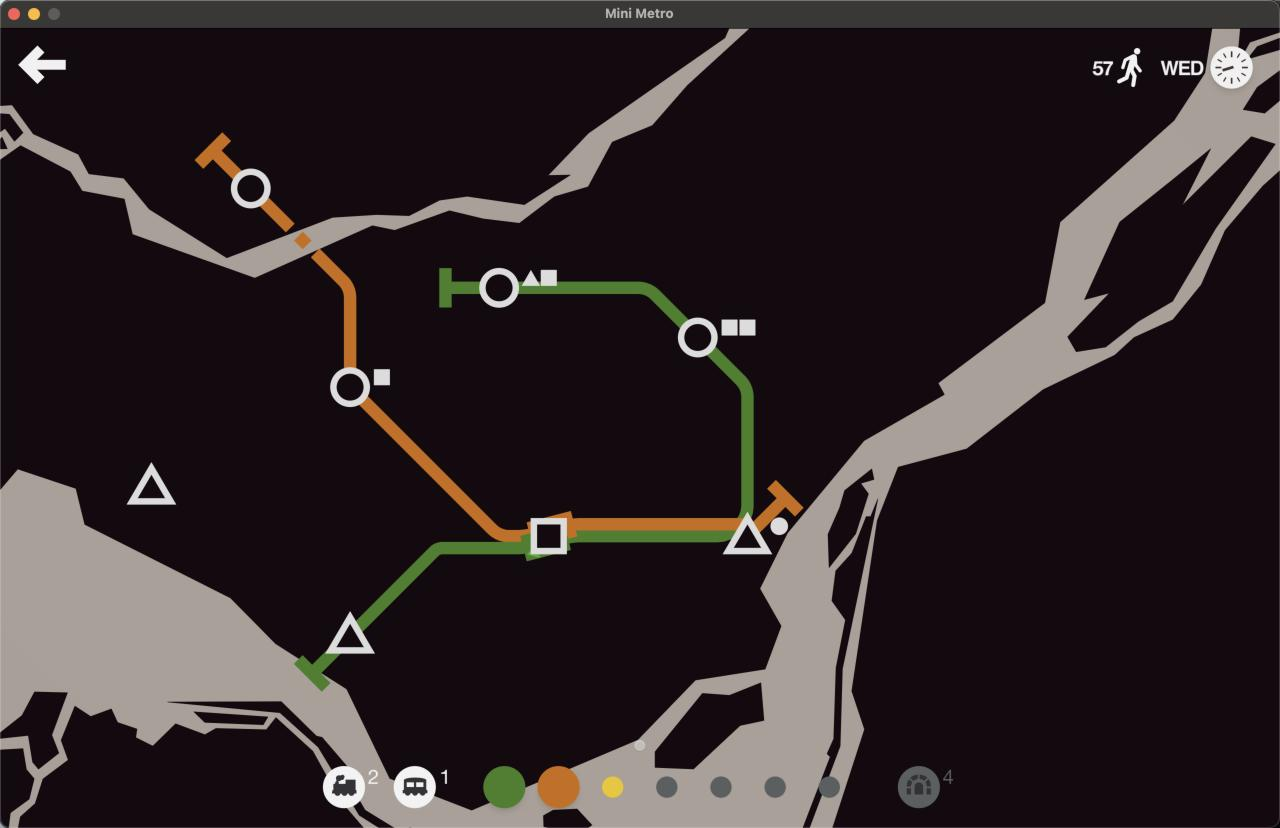DARK GREEN LINE: (359, 534, 560, 629), (355, 534, 539, 630), (566, 529, 731, 549), (756, 480, 803, 529), (299, 653, 341, 691), (541, 516, 557, 543), (359, 633, 372, 653)
ORANGE YELLOW LINE: (360, 400, 521, 541), (707, 348, 753, 516), (521, 281, 685, 327), (553, 512, 739, 538), (312, 251, 354, 366), (196, 133, 239, 178), (441, 269, 478, 306), (262, 199, 294, 231), (295, 232, 310, 248)
